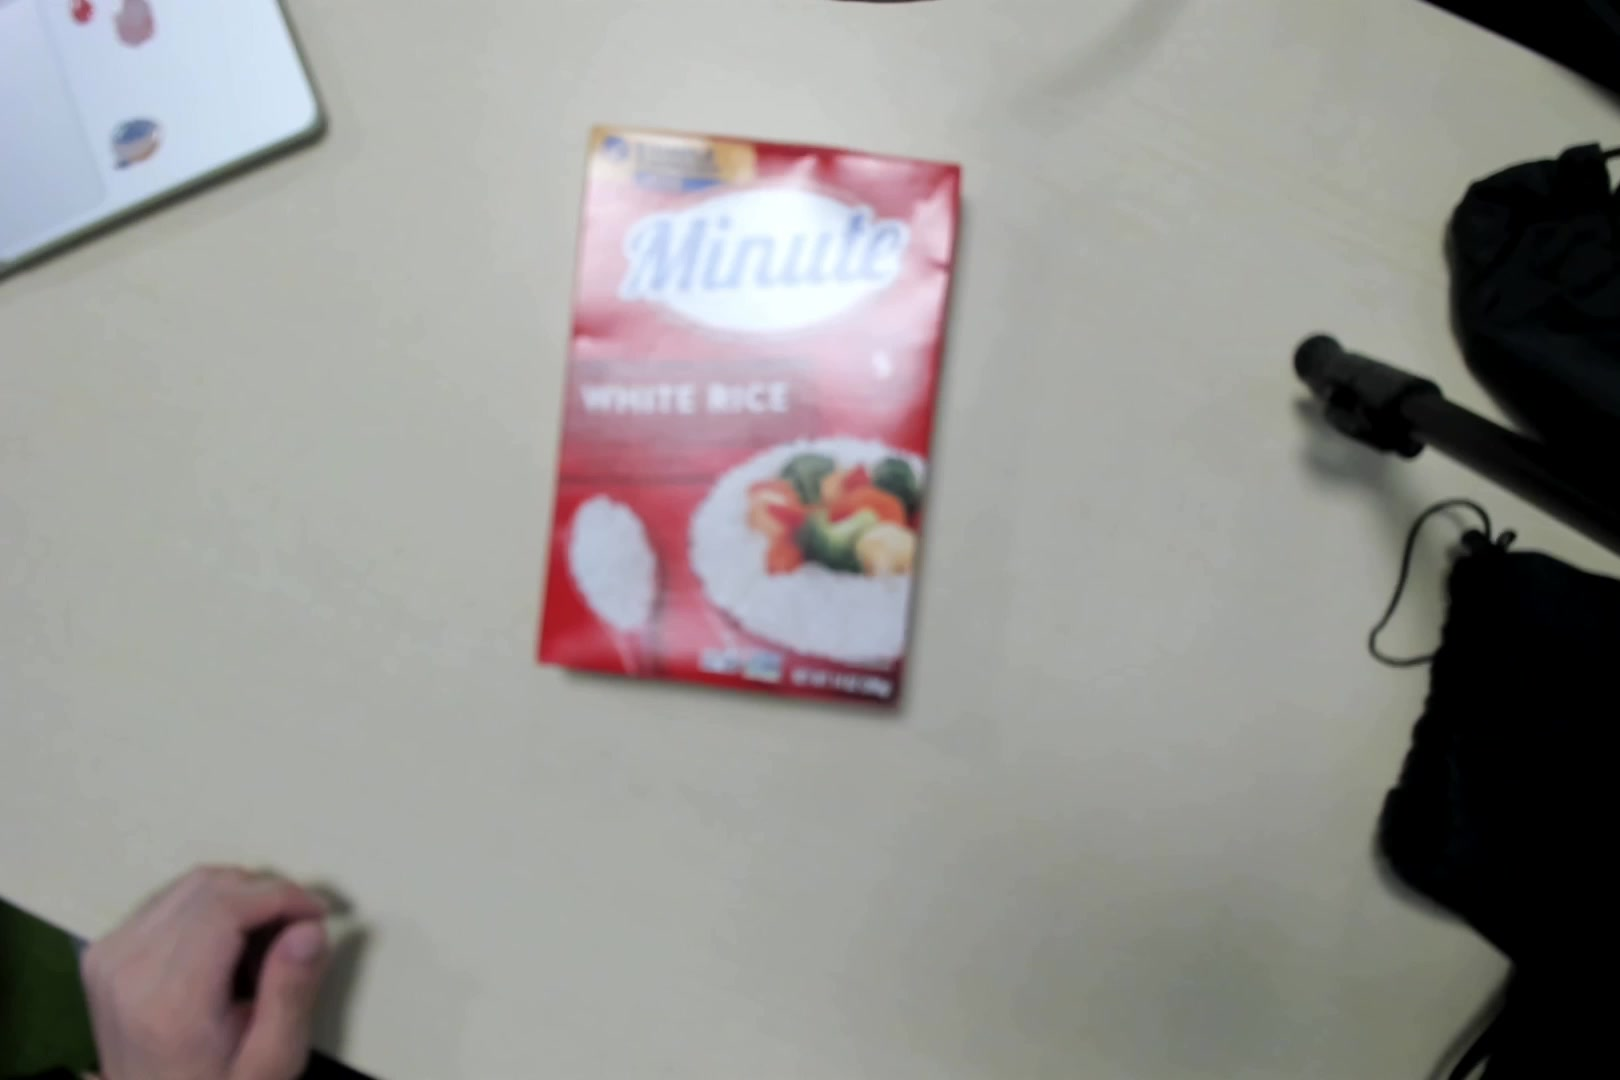Rice(White)_300-399g_NonHalal_NonHealthy: (551, 125, 957, 720)
